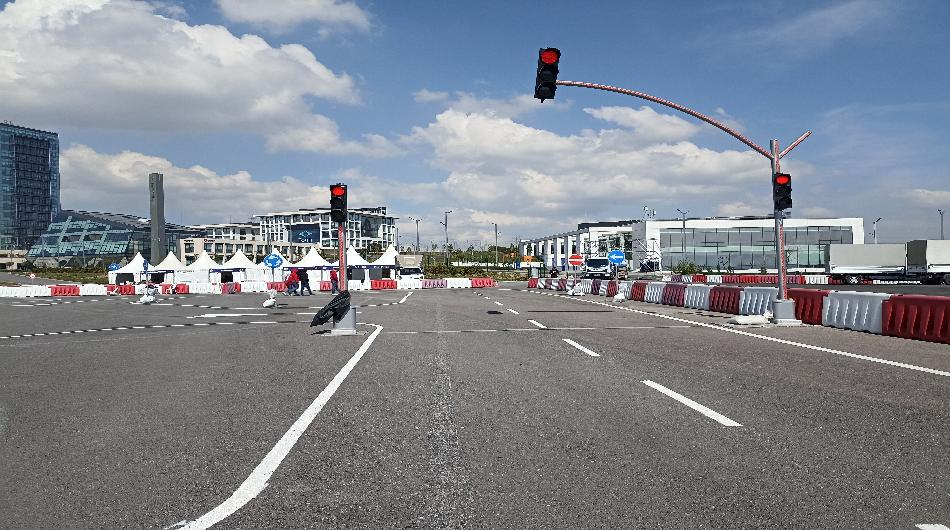red_light: (533, 43, 565, 109), (771, 174, 796, 212), (329, 180, 351, 220)
